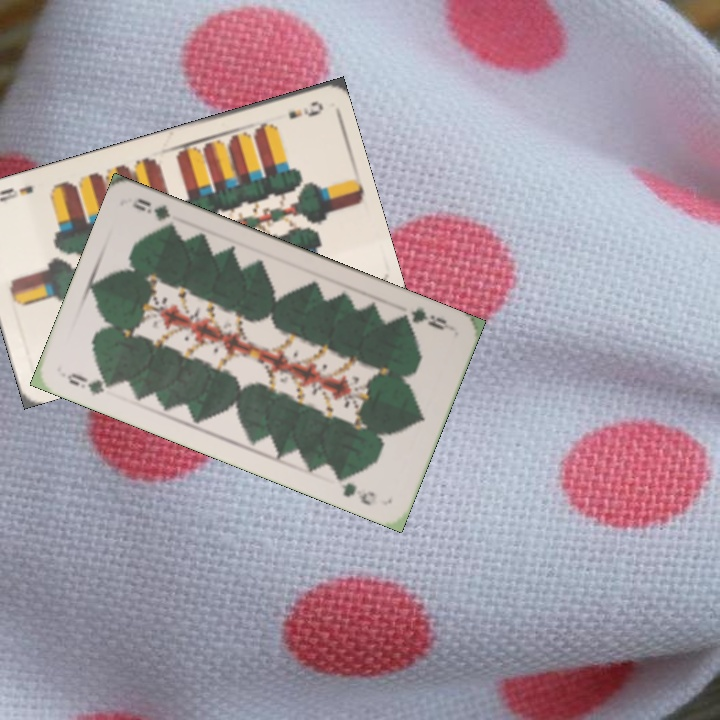E9: (284, 96, 326, 122)
G9: (395, 303, 455, 333), (62, 369, 118, 399)
